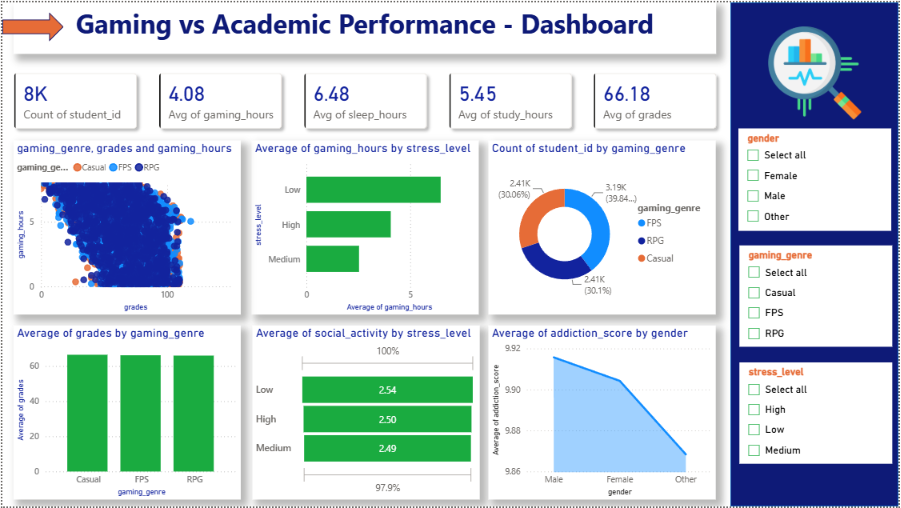

The page's visual inventory and layout, read from the dashboard file:
{"tool":"powerbi","page":{"name":"Page 1","canvas":[1280,720],"ordinal":0},"visuals":[{"type":"cardVisual","fields":{"Data":["CountNonNull(gaming_academic_performance fact_academic_performance.student_id)","Avg(gaming_academic_performance fact_academic_performance.gaming_hours)","Avg(gaming_academic_performance fact_academic_performance.sleep_hours)","Avg(gaming_academic_performance fact_academic_performance.study_hours)","Avg(gaming_academic_performance fact_academic_performance.grades)"]},"box":[0,83.8,1040,113.8],"z":0},{"type":"textbox","box":[16.2,0,1003.8,73.8],"z":1000},{"type":"shape","box":[0,13.8,87.5,41.2],"z":2000},{"type":"shape","box":[1040,0,240,720],"z":3000},{"type":"image","box":[1090,33.8,141.2,132.5],"z":4000},{"type":"slicer","fields":{"Values":["gaming_academic_performance dim_gender.gender"]},"box":[1051.2,180,218.8,146.2],"z":5000},{"type":"slicer","fields":{"Values":["gaming_academic_performance dim_gaming_genre.gaming_genre"]},"box":[1052.5,347.5,218.8,145],"z":6000},{"type":"slicer","fields":{"Values":["gaming_academic_performance dim_stress_level.stress_level"]},"box":[1052.5,513.8,218.8,145],"z":7000},{"type":"barChart","fields":{"Y":["Avg(gaming_academic_performance fact_academic_performance.gaming_hours)"],"Category":["gaming_academic_performance dim_stress_level.stress_level"]},"box":[356.2,197.5,325,248.8],"z":8000},{"type":"donutChart","fields":{"Y":["CountNonNull(gaming_academic_performance fact_academic_performance.student_id)"],"Category":["gaming_academic_performance dim_gaming_genre.gaming_genre"]},"box":[695,197.5,325,248.8],"z":9000},{"type":"scatterChart","fields":{"X":["gaming_academic_performance fact_academic_performance.grades"],"Y":["gaming_academic_performance fact_academic_performance.gaming_hours"],"Series":["gaming_academic_performance dim_gaming_genre.gaming_genre"]},"box":[16.2,197.5,325,248.8],"z":10000},{"type":"clusteredColumnChart","fields":{"Category":["gaming_academic_performance dim_gaming_genre.gaming_genre"],"Y":["Avg(gaming_academic_performance fact_academic_performance.grades)"]},"box":[16.2,461.2,325,248.8],"z":11000},{"type":"funnel","fields":{"Category":["gaming_academic_performance dim_stress_level.stress_level"],"Y":["Avg(gaming_academic_performance fact_academic_performance.social_activity)"]},"box":[357.5,461.2,325,248.8],"z":12000},{"type":"areaChart","fields":{"Category":["gaming_academic_performance dim_gender.gender"],"Y":["Avg(gaming_academic_performance fact_academic_performance.addiction_score)"]},"box":[695,461.2,325,248.8],"z":13000}]}

Visuals, with their boxes in screenshot pixels (x1, y1, x2, y2), scaled from the page's 1280x720 canvas onto the 901x508 screenshot:
cardVisual - CountNonNull(gaming_academic_performance fact_academic_performance.student_id) x Avg(gaming_academic_performance fact_academic_performance.gaming_hours): (left=0, top=59, right=732, bottom=139)
textbox: (left=11, top=0, right=718, bottom=52)
shape: (left=0, top=10, right=62, bottom=39)
shape: (left=732, top=0, right=900, bottom=507)
image: (left=767, top=24, right=867, bottom=117)
slicer - gaming_academic_performance dim_gender.gender: (left=740, top=127, right=894, bottom=230)
slicer - gaming_academic_performance dim_gaming_genre.gaming_genre: (left=741, top=245, right=895, bottom=347)
slicer - gaming_academic_performance dim_stress_level.stress_level: (left=741, top=363, right=895, bottom=465)
barChart - Avg(gaming_academic_performance fact_academic_performance.gaming_hours) x gaming_academic_performance dim_stress_level.stress_level: (left=251, top=139, right=480, bottom=315)
donutChart - CountNonNull(gaming_academic_performance fact_academic_performance.student_id) x gaming_academic_performance dim_gaming_genre.gaming_genre: (left=489, top=139, right=718, bottom=315)
scatterChart - gaming_academic_performance fact_academic_performance.grades x gaming_academic_performance fact_academic_performance.gaming_hours: (left=11, top=139, right=240, bottom=315)
clusteredColumnChart - gaming_academic_performance dim_gaming_genre.gaming_genre x Avg(gaming_academic_performance fact_academic_performance.grades): (left=11, top=325, right=240, bottom=501)
funnel - gaming_academic_performance dim_stress_level.stress_level x Avg(gaming_academic_performance fact_academic_performance.social_activity): (left=252, top=325, right=480, bottom=501)
areaChart - gaming_academic_performance dim_gender.gender x Avg(gaming_academic_performance fact_academic_performance.addiction_score): (left=489, top=325, right=718, bottom=501)
